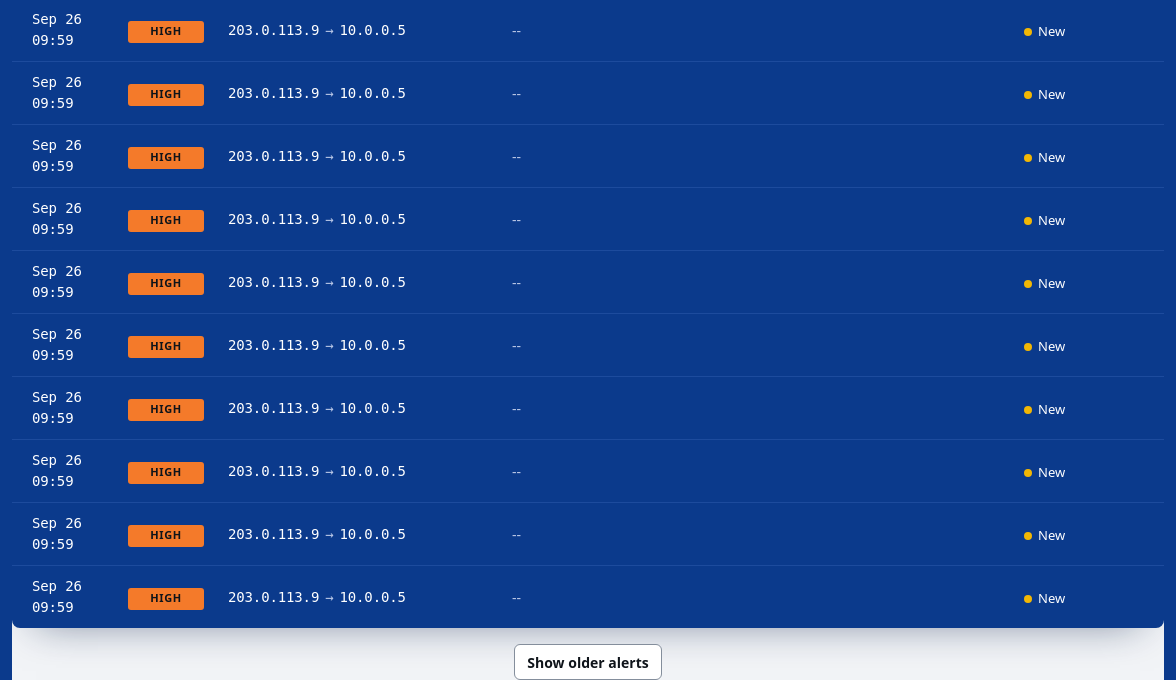
Test case: AlertFeed paging › offers older alerts after a full page and loads them from the next offset
The width and height of the screenshot is (1176, 680).
(page scrolled)
Click the button "Show older alerts": click(588, 662) [514,644,662,679]
(page scrolled)
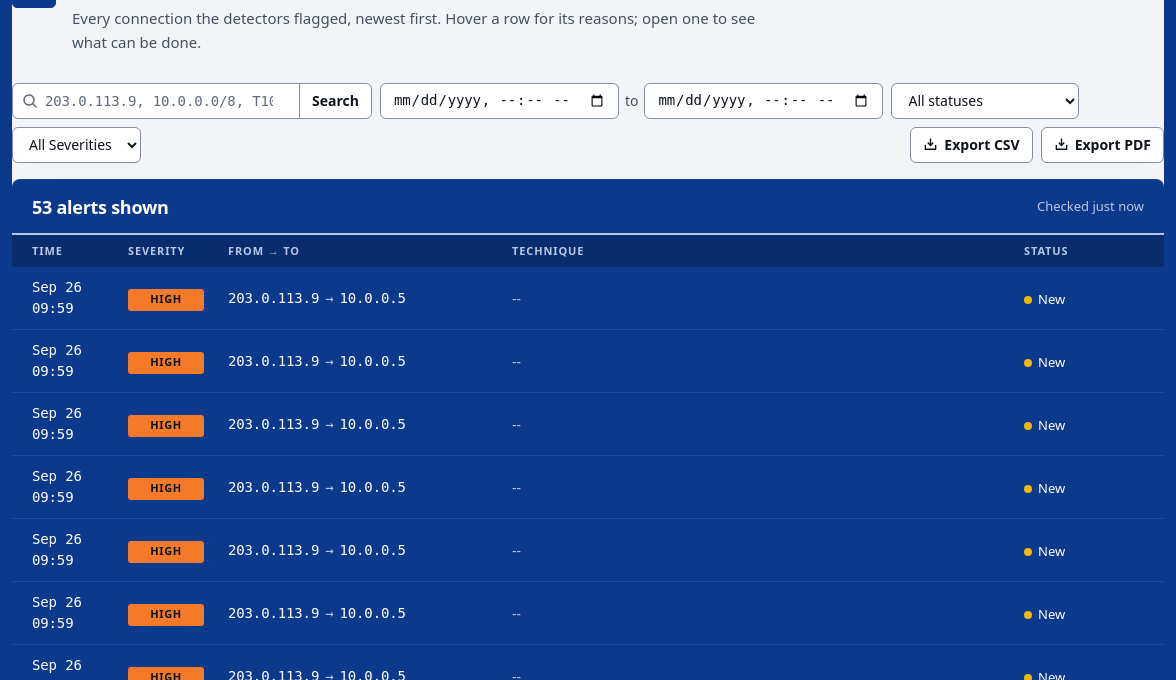
Result: the button "Show older alerts" is gone
